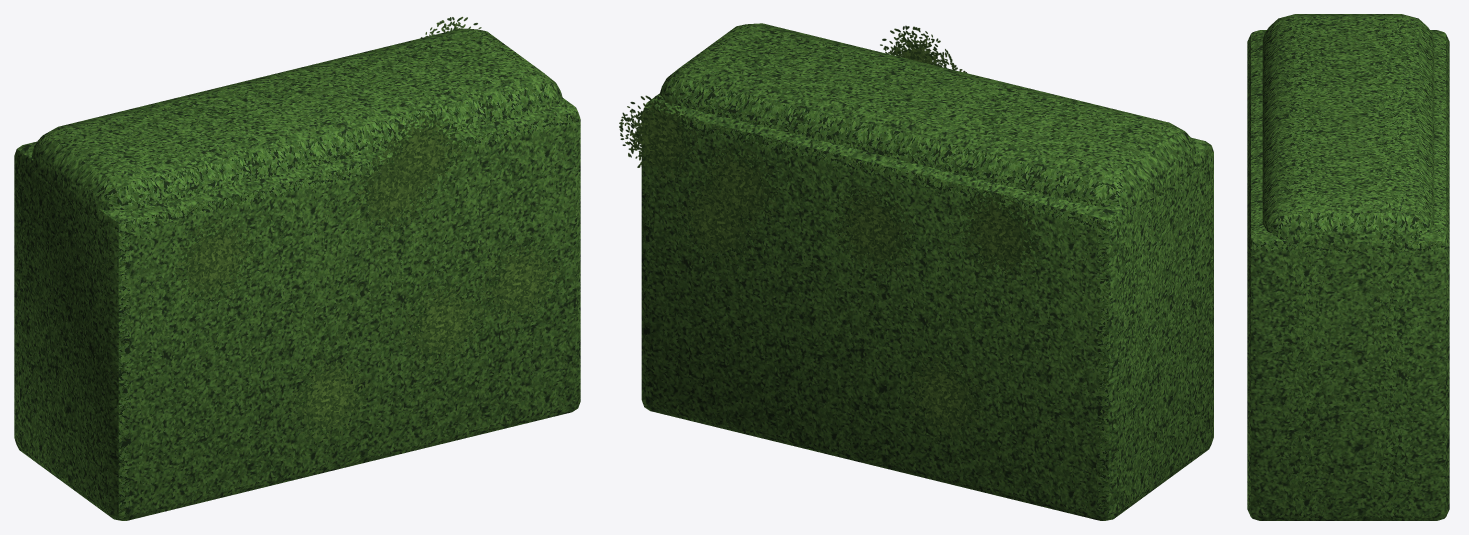
File: hedge_straight.glb
3 renders of one model, left to right at view 1: azimuth 30°, elevation 25°; view 2: azimuth 150°, elevation 25°; view 3: azimuth 270°, elevation 25°, orthographic. The views are drawn at different scales.
Visible parts, largest first — view 1: body; view 2: body; view 3: body.
Part boxes in pixels (x1,y1,x2,y2): body: (14,16,580,520); body: (619,23,1213,520); body: (1247,14,1449,520).
Size of the model in its own units: 2.1 by 1.46 by 0.84.
Materials: 2 (2 with a texture image).
